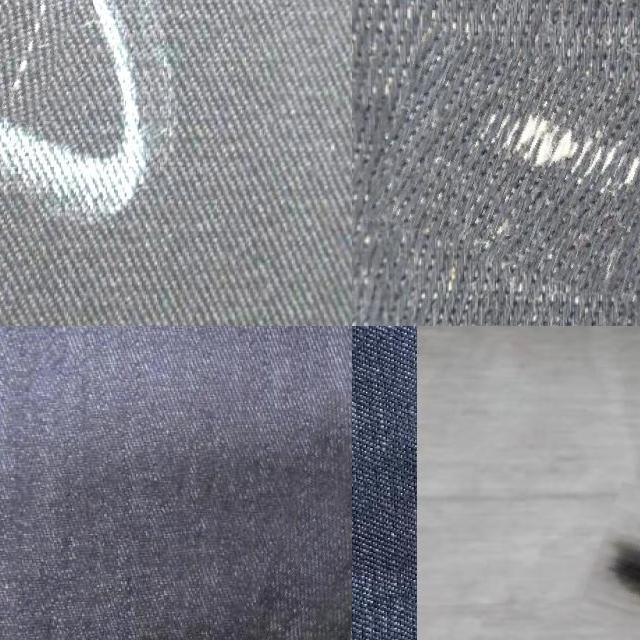Hole: (584, 490, 640, 640)
Thread_other: (374, 45, 640, 299), (205, 400, 352, 640)
